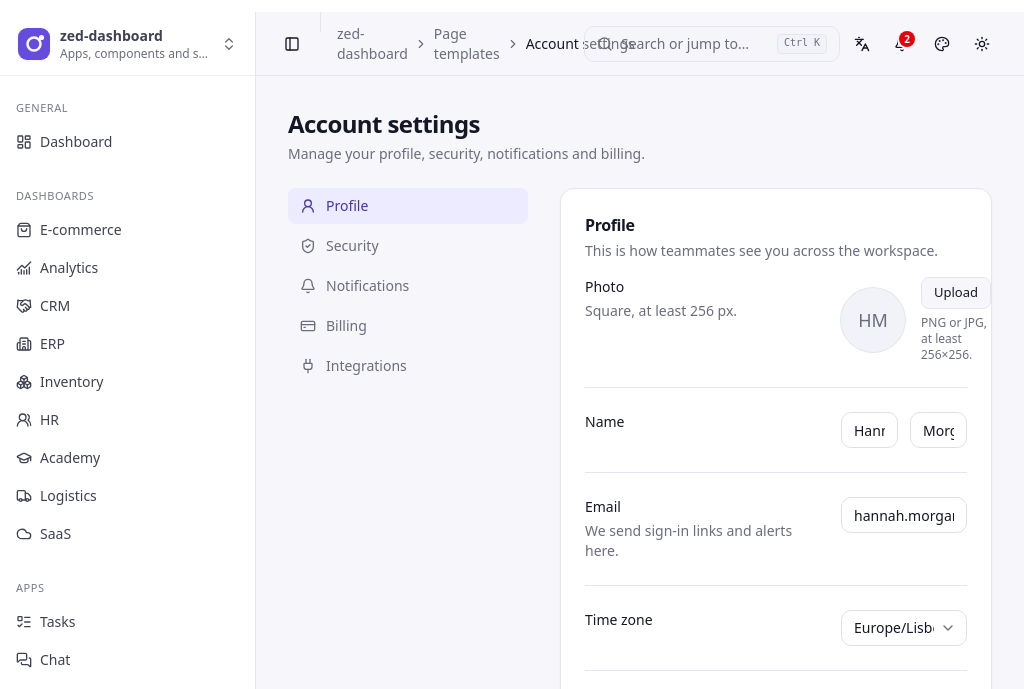
Scenario: Page templates › switches account settings sections through the URL
Expected: the heading "Account settings" is shown, 288,107 -> 480,140
Click the button "Billing": (408, 326) 288,308 -> 528,344
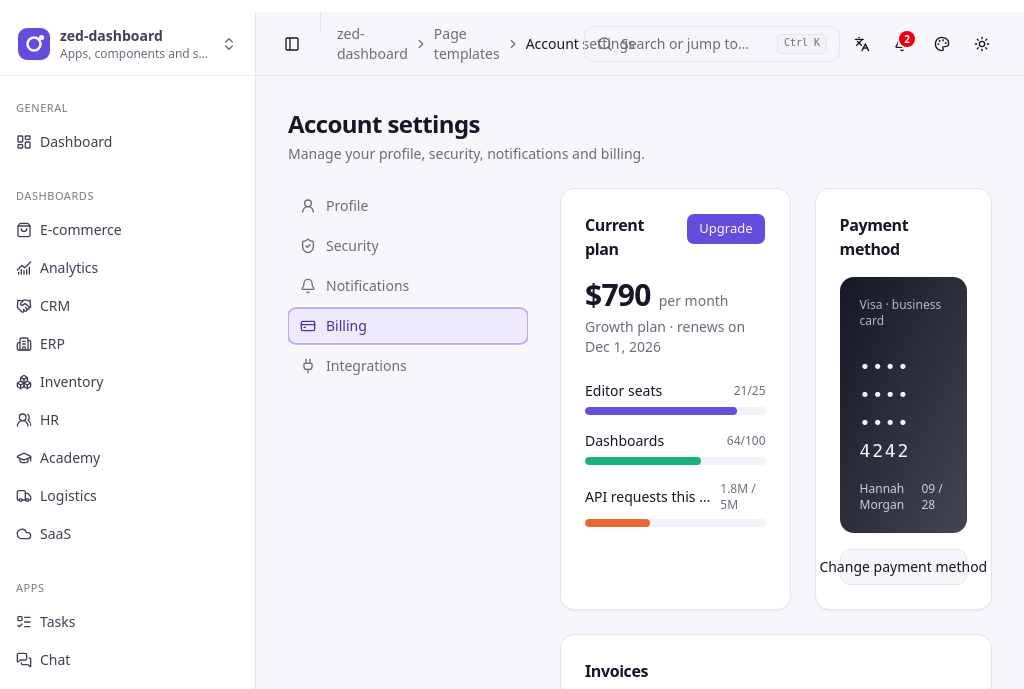
Expected: the heading "Current plan" is shown, 585,214 -> 644,260
